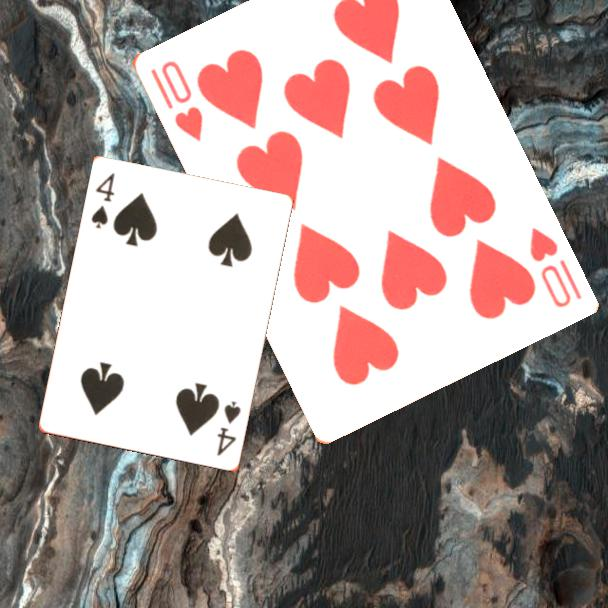h10: (146, 57, 206, 144), (525, 223, 584, 311)
s04: (88, 170, 118, 232), (214, 398, 244, 459)
